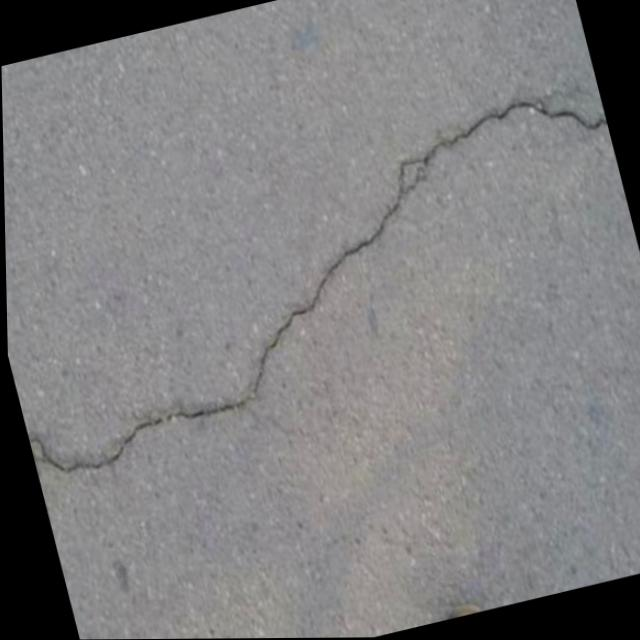Crack: (1, 63, 640, 503)
